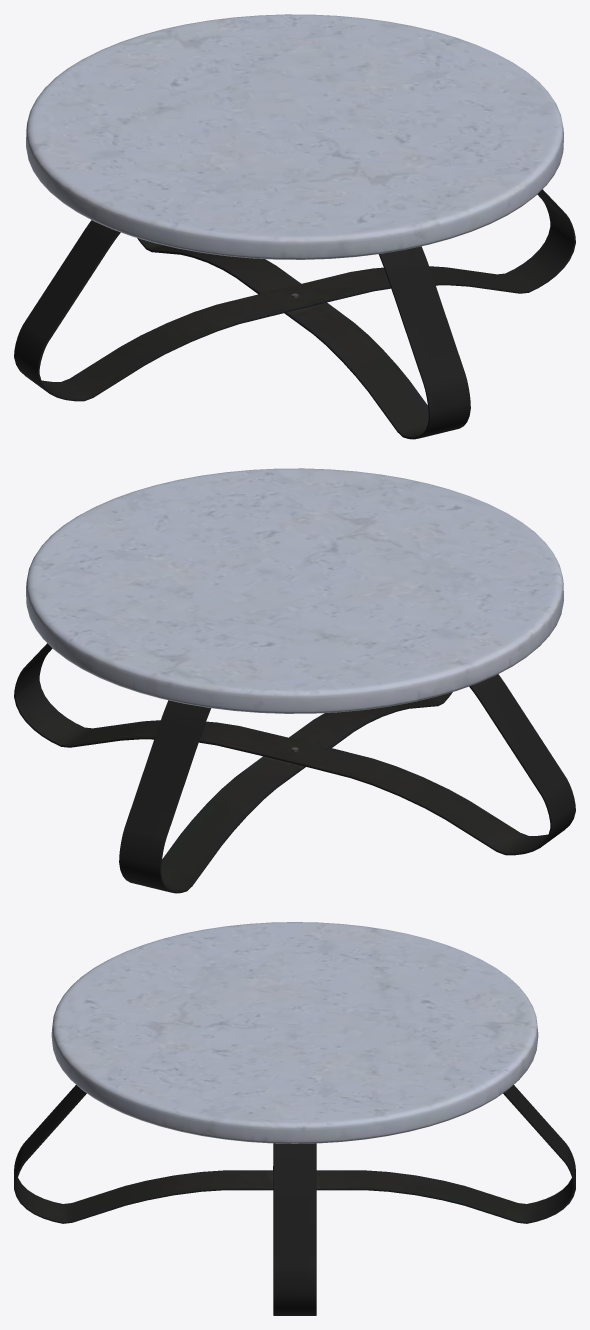
Rendered from ph-coffee_table_round_01.glb.
3 views of the same model, one above another, from view 1: azimuth 30°, elevation 25°; view 2: azimuth 150°, elevation 25°; view 3: azimuth 270°, elevation 25° (orthographic). The views are drawn at different scales.
Visible parts, largest first — view 1: coffee_table_round_01; view 2: coffee_table_round_01; view 3: coffee_table_round_01.
Boxes of the visible parts, x1,y1,x2,y2 form: coffee_table_round_01: (14,14,575,439); coffee_table_round_01: (14,468,575,893); coffee_table_round_01: (14,922,575,1315).
Bounding box in the file's own units: 1 × 0.3773 × 1.
1 material, 1 textured.
